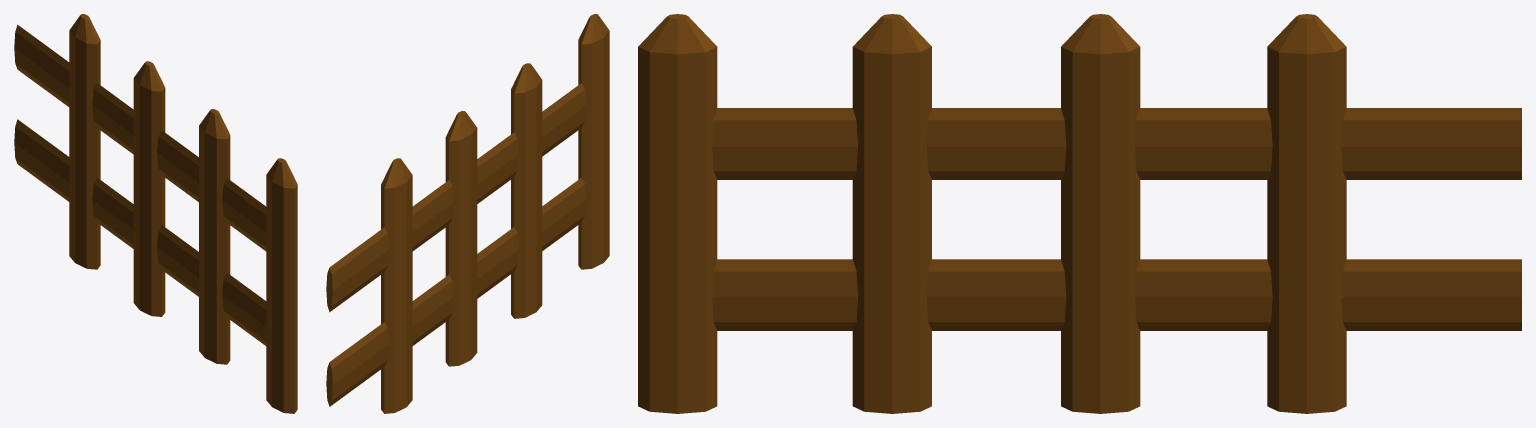
File: Fence.fbx
3 renders of one model, left to right at view 1: azimuth 30°, elevation 25°; view 2: azimuth 150°, elevation 25°; view 3: azimuth 270°, elevation 25°, orthographic. The views are drawn at different scales.
Parts seen in each view (by area): view 1: pCylinder6, pCylinder5, pCylinder4, pCylinder1, pCylinder2, pCylinder3; view 2: pCylinder5, pCylinder6, pCylinder1, pCylinder3, pCylinder2, pCylinder4; view 3: pCylinder5, pCylinder6, pCylinder4, pCylinder2, pCylinder3, pCylinder1.
Part boxes in pixels (box(x1,y1,x2,y2)): pCylinder6: box(14, 119, 266, 345); pCylinder5: box(14, 24, 266, 251); pCylinder4: box(266, 158, 297, 413); pCylinder1: box(133, 61, 165, 316); pCylinder2: box(69, 14, 100, 269); pCylinder3: box(199, 109, 230, 364); pCylinder5: box(326, 83, 586, 312); pCylinder6: box(326, 178, 586, 406); pCylinder1: box(445, 111, 477, 366); pCylinder3: box(511, 63, 542, 318); pCylinder2: box(381, 158, 412, 413); pCylinder4: box(578, 14, 609, 269); pCylinder5: box(712, 108, 1521, 179); pCylinder6: box(712, 259, 1521, 330); pCylinder4: box(638, 14, 717, 413); pCylinder2: box(1267, 14, 1346, 413); pCylinder3: box(852, 14, 931, 413); pCylinder1: box(1061, 14, 1140, 413).
Bounding box in the file's own units: 0.1824 × 2.17 × 4.45.
Materials: 1 (1 with a texture image).
